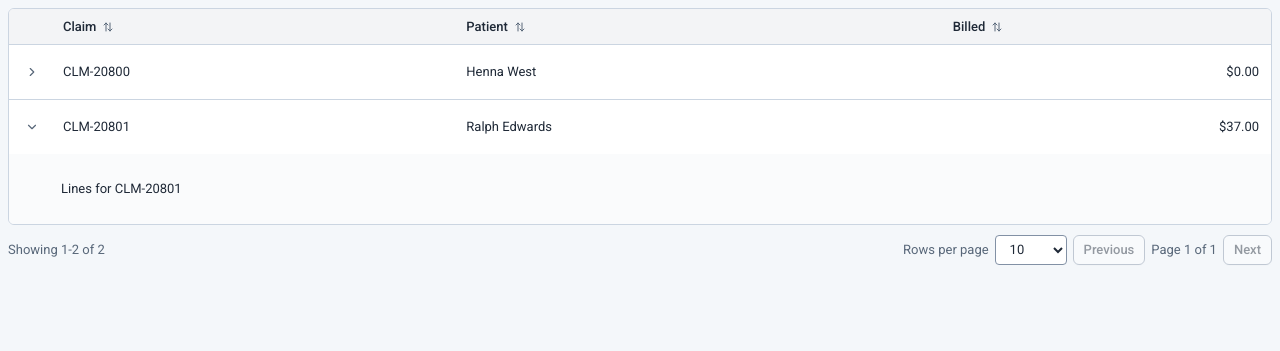
DataTable › expands rows
Expected: the text "Lines for CLM-20801" is shown, left=61, top=181, right=182, bottom=196
Click the button named "Expand CLM-20800": (32, 72) left=17, top=57, right=47, bottom=87
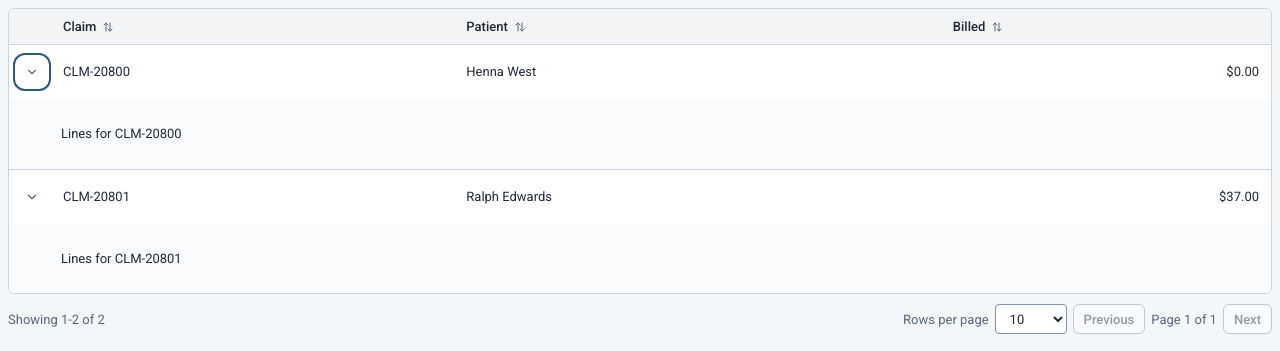
Expected: the text "Lines for CLM-20800" is shown, left=61, top=126, right=182, bottom=141
Click the button named "Collapse CLM-20800": (32, 72) left=17, top=57, right=47, bottom=87
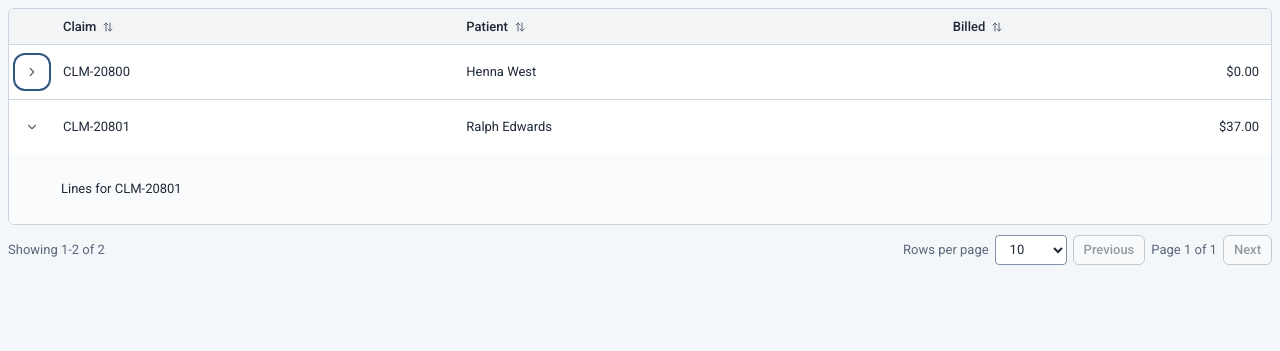
Expected: the text "Lines for CLM-20800" is gone
